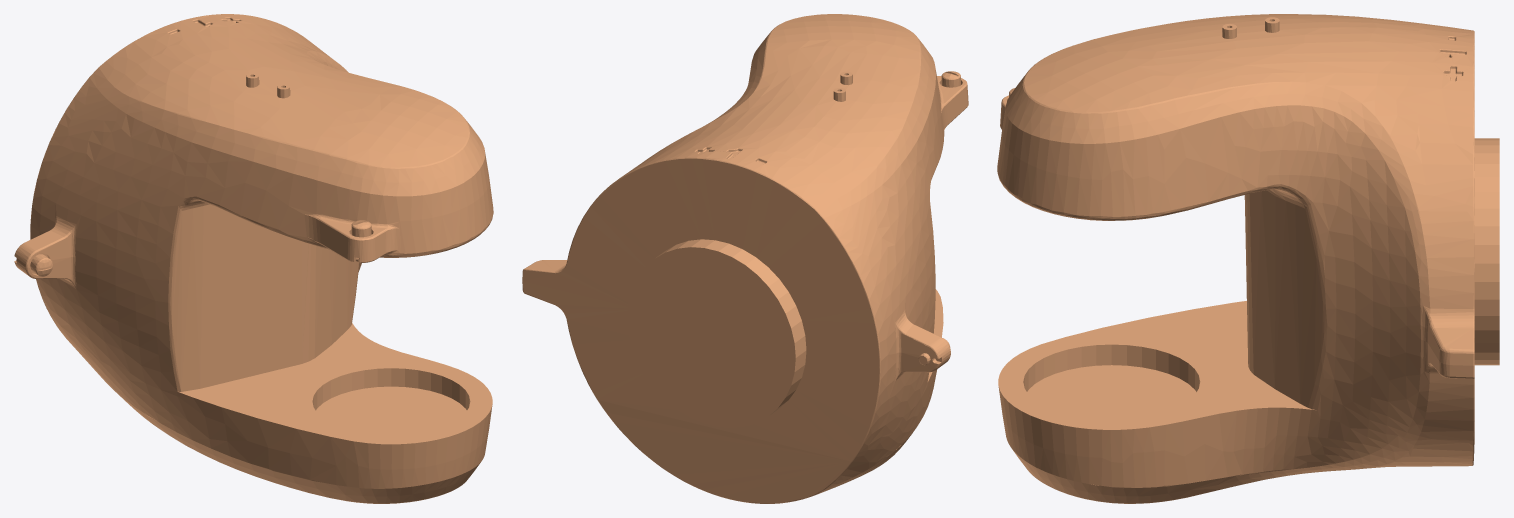
3 renders of one model, left to right at view 1: azimuth 30°, elevation 25°; view 2: azimuth 150°, elevation 25°; view 3: azimuth 270°, elevation 25°, orthographic. The views are drawn at different scales.
Visible parts, largest first — view 1: /Link_1/Link_1_001-mesh/0; view 2: /Link_1/Link_1_001-mesh/0; view 3: /Link_1/Link_1_001-mesh/0.
Boxes of the visible parts, <box> form: /Link_1/Link_1_001-mesh/0: <box>14,14,493,503</box>; /Link_1/Link_1_001-mesh/0: <box>522,14,968,503</box>; /Link_1/Link_1_001-mesh/0: <box>997,14,1499,503</box>.
Bounding box in the file's own units: 0.235 × 0.204 × 0.2215.
